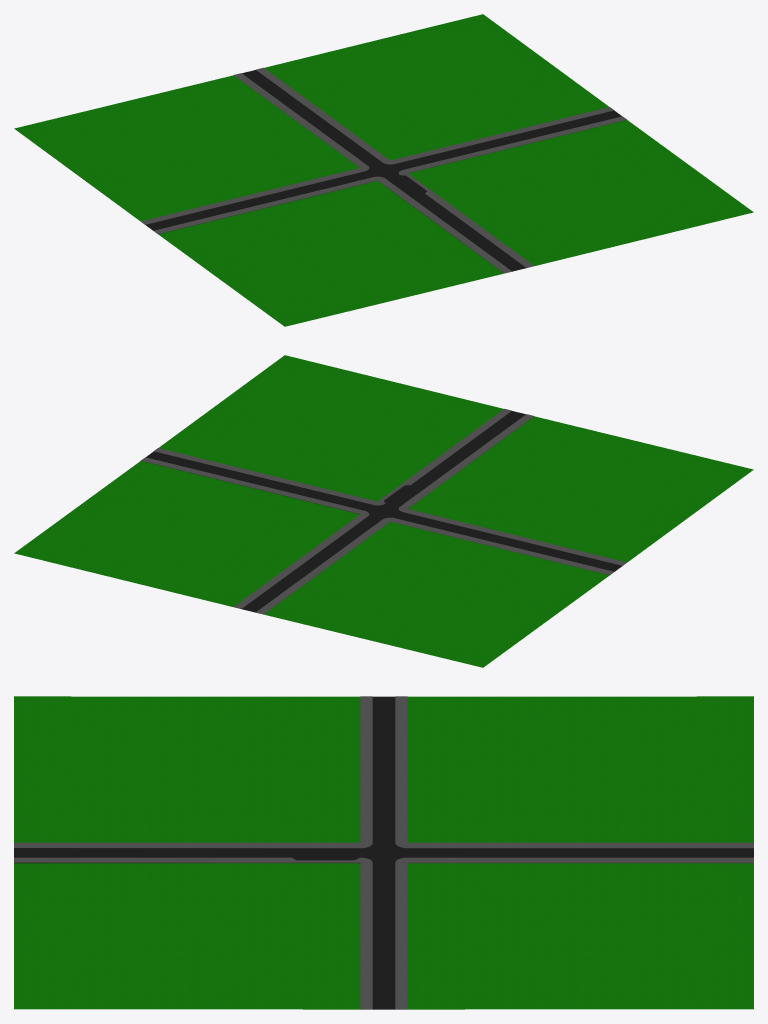
The model's file is garage.glb.
3 views of the same model, one above another, from view 1: azimuth 30°, elevation 25°; view 2: azimuth 150°, elevation 25°; view 3: azimuth 270°, elevation 25° (orthographic). The views are drawn at different scales.
Visible parts, largest first — view 1: Bounds - Grass, Road; view 2: Bounds - Grass, Road; view 3: Bounds - Grass, Road.
Boxes of the visible parts, left/top/right/bottom form: Bounds - Grass: left=14, top=14, right=753, bottom=326; Road: left=141, top=67, right=626, bottom=273; Bounds - Grass: left=14, top=355, right=753, bottom=667; Road: left=141, top=408, right=626, bottom=614; Bounds - Grass: left=14, top=696, right=753, bottom=1009; Road: left=14, top=696, right=753, bottom=1009.
Size of the model in its own units: 256 by 0.15 by 256.
Materials: 3 (1 with a texture image).
